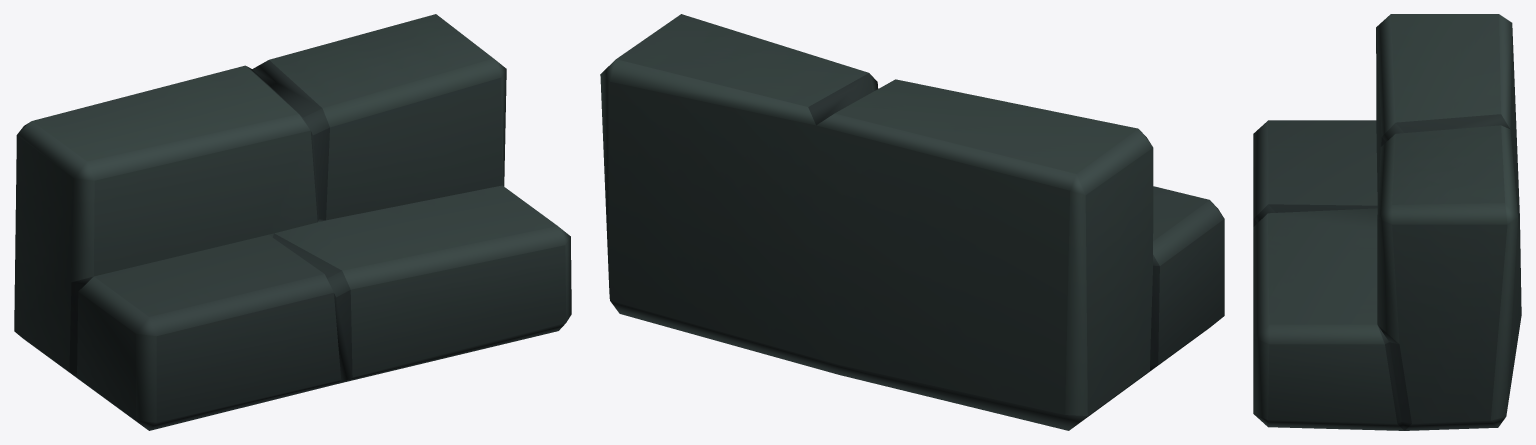
Rendered from undead_stairs_half_1_shade_5.fbx.
The picture shows the model from 3 angles, left to right: view 1: azimuth 30°, elevation 25°; view 2: azimuth 150°, elevation 25°; view 3: azimuth 270°, elevation 25°; orthographic projection. The views are drawn at different scales.
Visible parts, largest first — view 1: undead_stairs_half_1_shade_5; view 2: undead_stairs_half_1_shade_5; view 3: undead_stairs_half_1_shade_5.
Boxes of the visible parts, x1,y1,x2,y2 form: undead_stairs_half_1_shade_5: [14, 14, 571, 430]; undead_stairs_half_1_shade_5: [600, 14, 1224, 430]; undead_stairs_half_1_shade_5: [1253, 14, 1521, 430].
Size of the model in its own units: 1 by 0.5087 by 0.5457.
